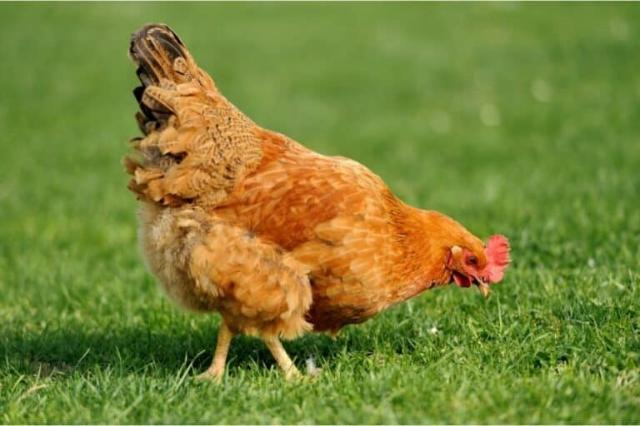Chicken: (128, 21, 512, 385)
